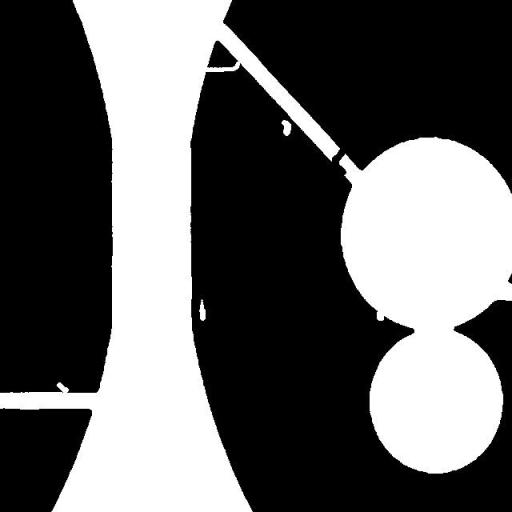mousebite: (49, 374, 76, 400), (369, 303, 391, 328)
open: (194, 54, 247, 79)
pin-hole: (191, 291, 213, 328), (274, 112, 298, 143)
short: (324, 140, 354, 183)
